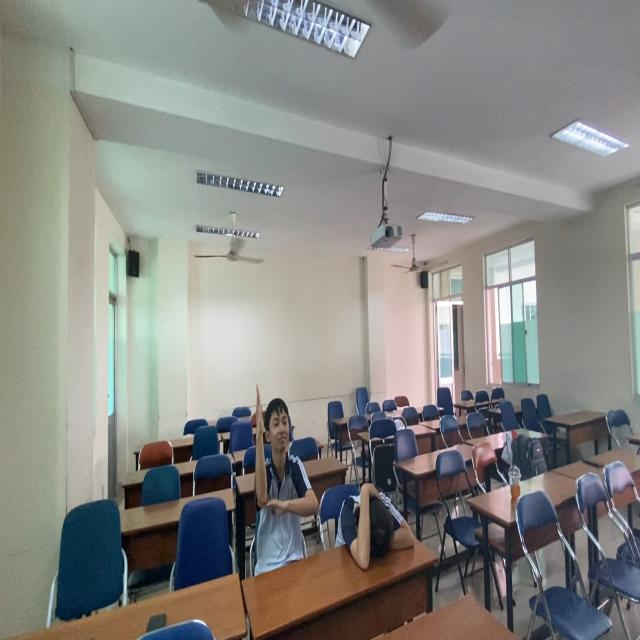raise_hand: (252, 379, 321, 557)
sleep: (337, 476, 425, 566)
